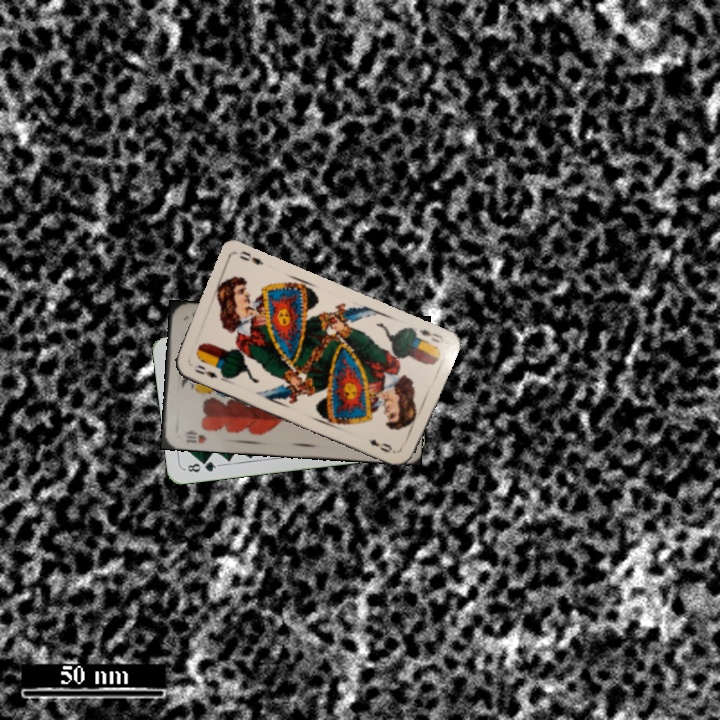EO: (415, 325, 446, 346), (190, 361, 220, 381)
G8: (181, 457, 222, 475)
H10: (180, 426, 210, 446)
